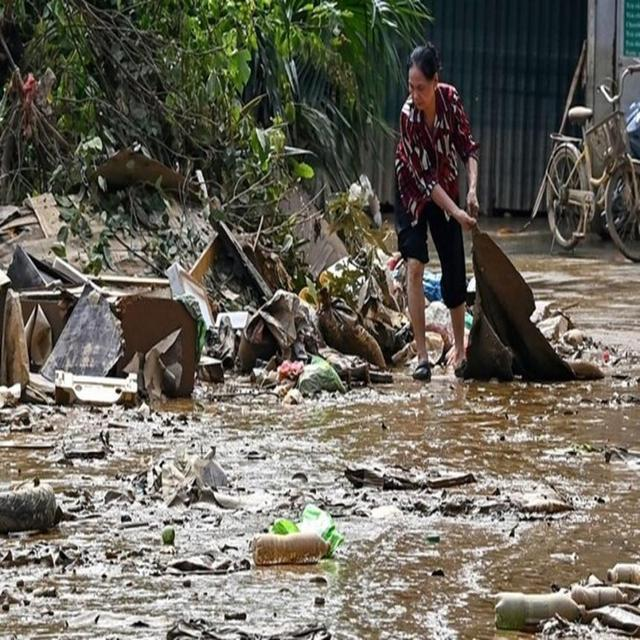Person-RiskLevel1: (378, 38, 489, 385)
